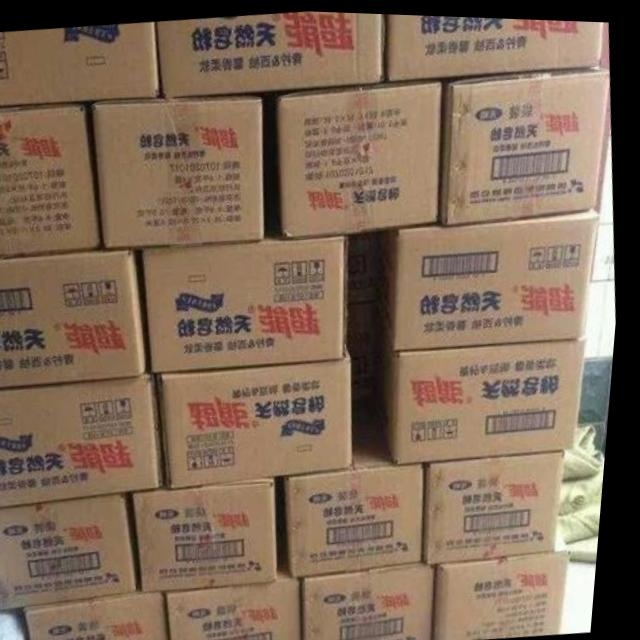box: (386, 204, 603, 345), (146, 232, 352, 372), (93, 90, 266, 248), (441, 62, 610, 222), (162, 354, 362, 489), (278, 75, 442, 234), (394, 335, 592, 461), (0, 373, 170, 509), (0, 247, 151, 388), (157, 9, 383, 96), (290, 446, 432, 573), (0, 492, 147, 610), (0, 100, 106, 258), (140, 478, 287, 591), (433, 445, 570, 560), (444, 528, 576, 639), (384, 11, 604, 76), (0, 20, 161, 106), (311, 557, 443, 640), (175, 566, 313, 640), (35, 591, 179, 640)
